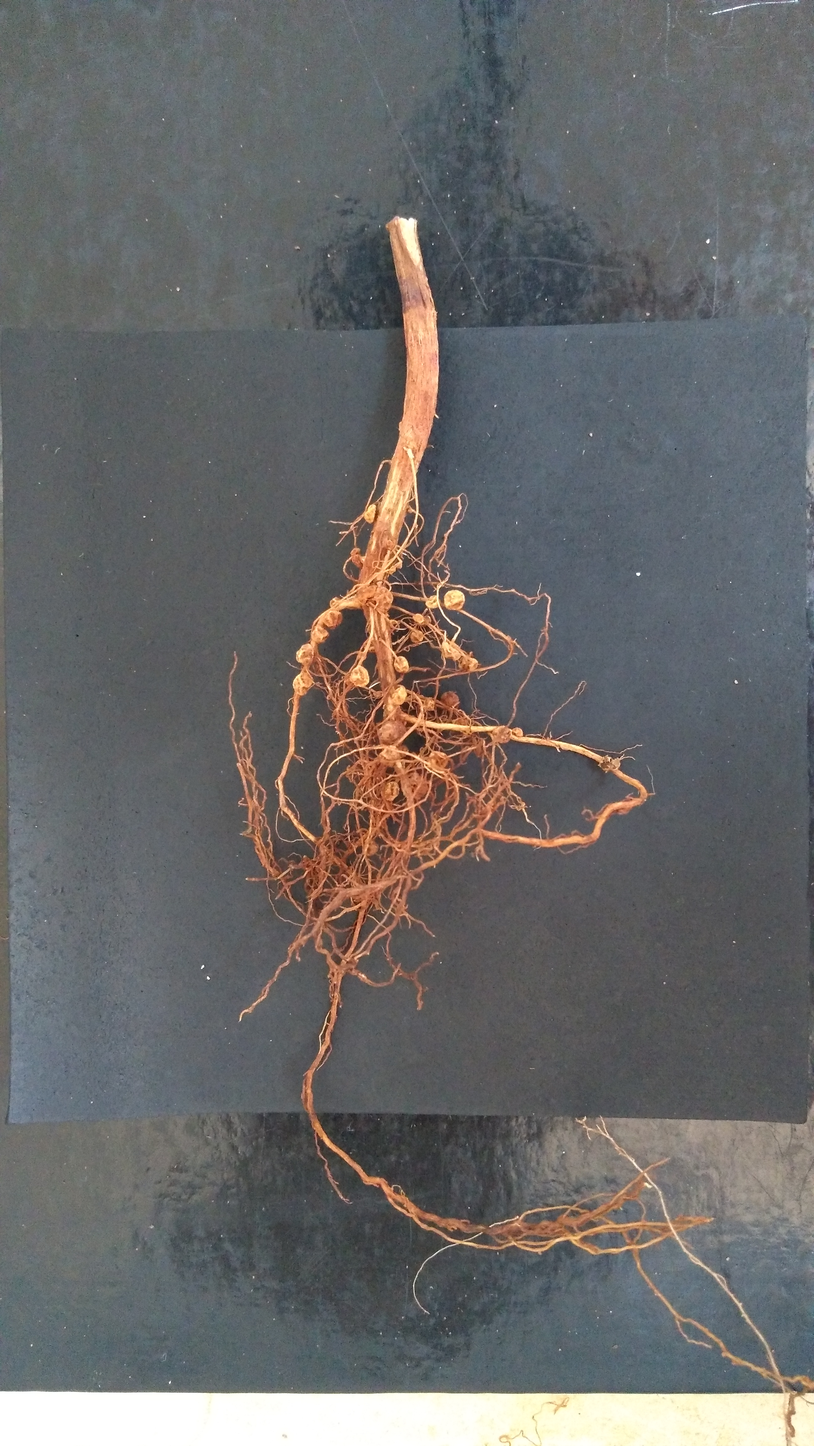nodule: (403, 773, 430, 803), (376, 720, 408, 744), (373, 586, 395, 613), (442, 588, 466, 611), (349, 664, 371, 688), (292, 671, 313, 696), (294, 643, 314, 668), (379, 780, 400, 803), (439, 640, 462, 661), (491, 724, 512, 745), (322, 610, 344, 630), (428, 750, 450, 770), (158, 571, 239, 576), (310, 625, 330, 645), (439, 690, 460, 709), (390, 686, 408, 707), (362, 837, 380, 858), (379, 745, 401, 761), (356, 586, 378, 602), (458, 655, 478, 672), (393, 654, 409, 674), (363, 503, 377, 524), (424, 594, 442, 609), (409, 629, 424, 644), (423, 696, 436, 713), (276, 552, 288, 568), (512, 725, 524, 738), (411, 613, 425, 623), (423, 614, 432, 625), (388, 565, 396, 575)
